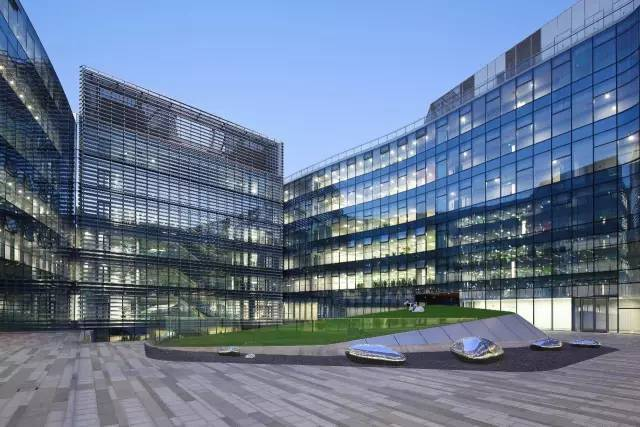buildings: (2, 63, 639, 326)
